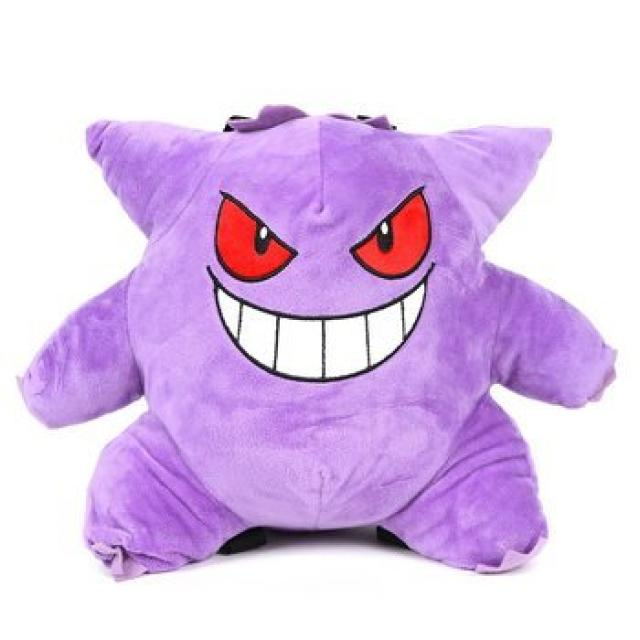Gengar: (19, 101, 626, 592)
